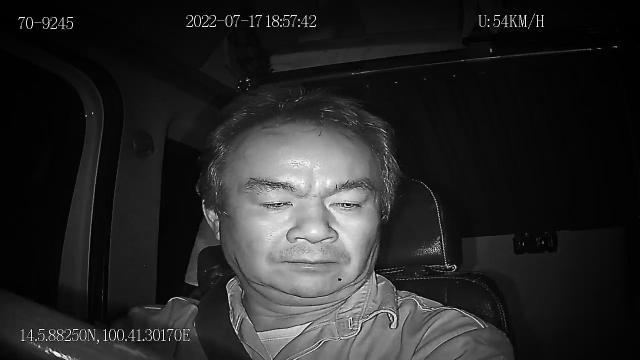SafeDriving: (321, 187, 373, 216), (245, 188, 301, 214)
Seatbelt: (193, 272, 255, 360)
